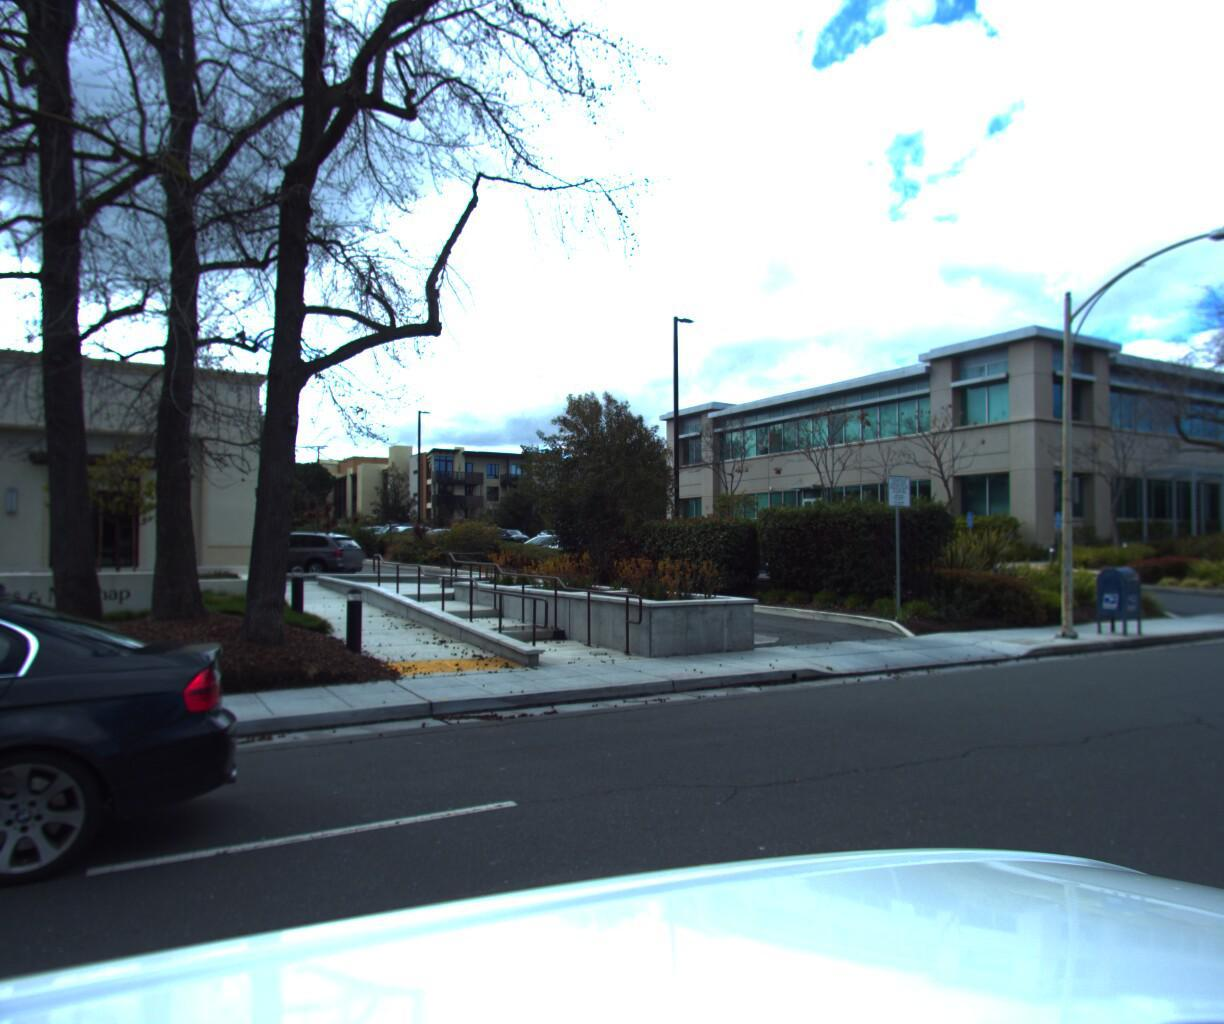car: (0, 579, 186, 1024)
